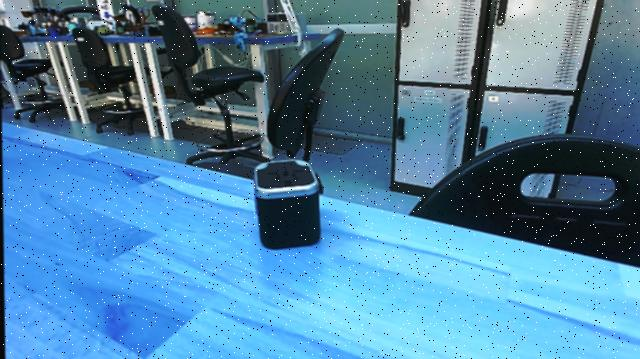adapter: (251, 156, 326, 258)
